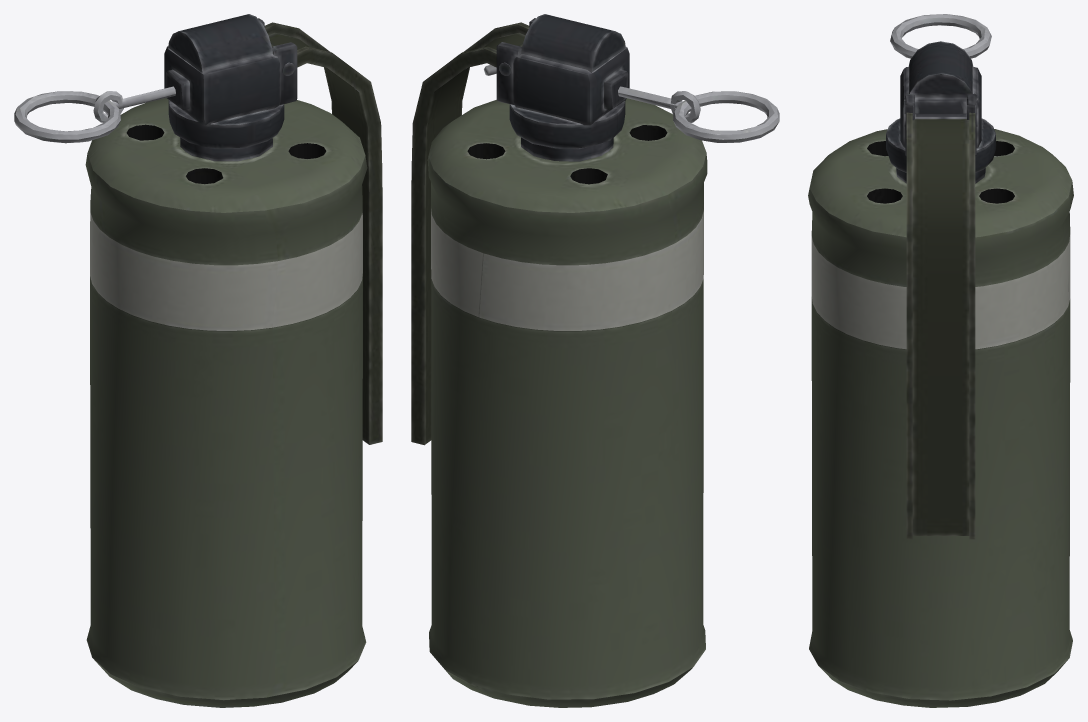
Rendered from grenade_smoke.glb.
3 views of the same model, side by side, from view 1: azimuth 30°, elevation 25°; view 2: azimuth 150°, elevation 25°; view 3: azimuth 270°, elevation 25° (orthographic). The views are drawn at different scales.
Parts seen in each view (by area): view 1: GrenadeSmoke, spoon, pin; view 2: GrenadeSmoke, spoon, pin; view 3: GrenadeSmoke, spoon, pin.
Boxes of the visible parts, x1,y1,x2,y2 form: GrenadeSmoke: (85, 14, 367, 707); spoon: (264, 22, 382, 444); pin: (14, 86, 175, 143); GrenadeSmoke: (427, 14, 707, 707); spoon: (411, 22, 529, 445); pin: (484, 65, 779, 142); GrenadeSmoke: (808, 41, 1073, 707); spoon: (904, 112, 977, 539); pin: (890, 14, 991, 58).
Bounding box in the file's own units: 0.0876 × 0.1548 × 0.062.
Materials: 1 (1 with a texture image).
